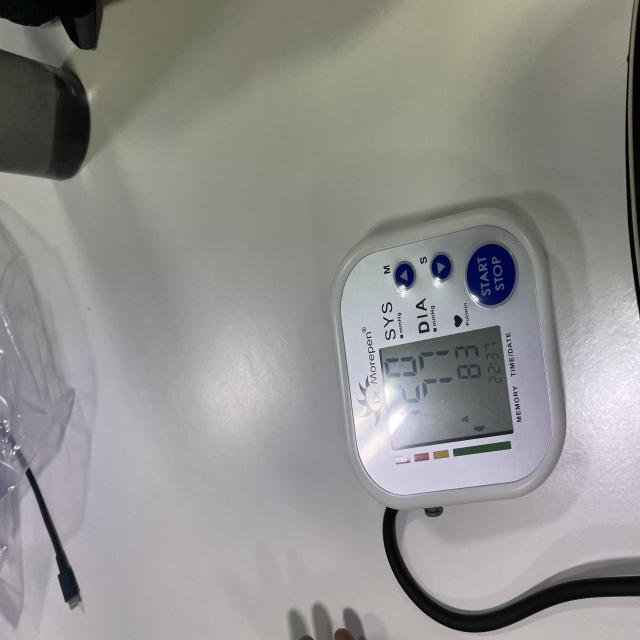bp: (329, 198, 567, 519)
